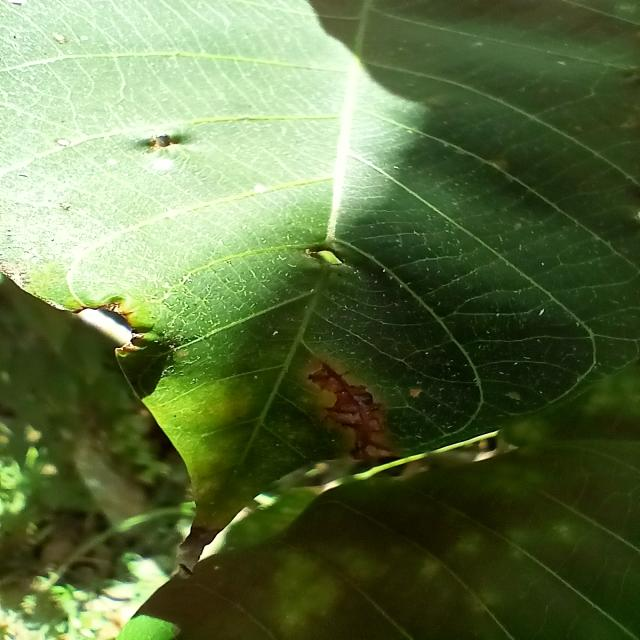Corynespora: (310, 360, 386, 460)
